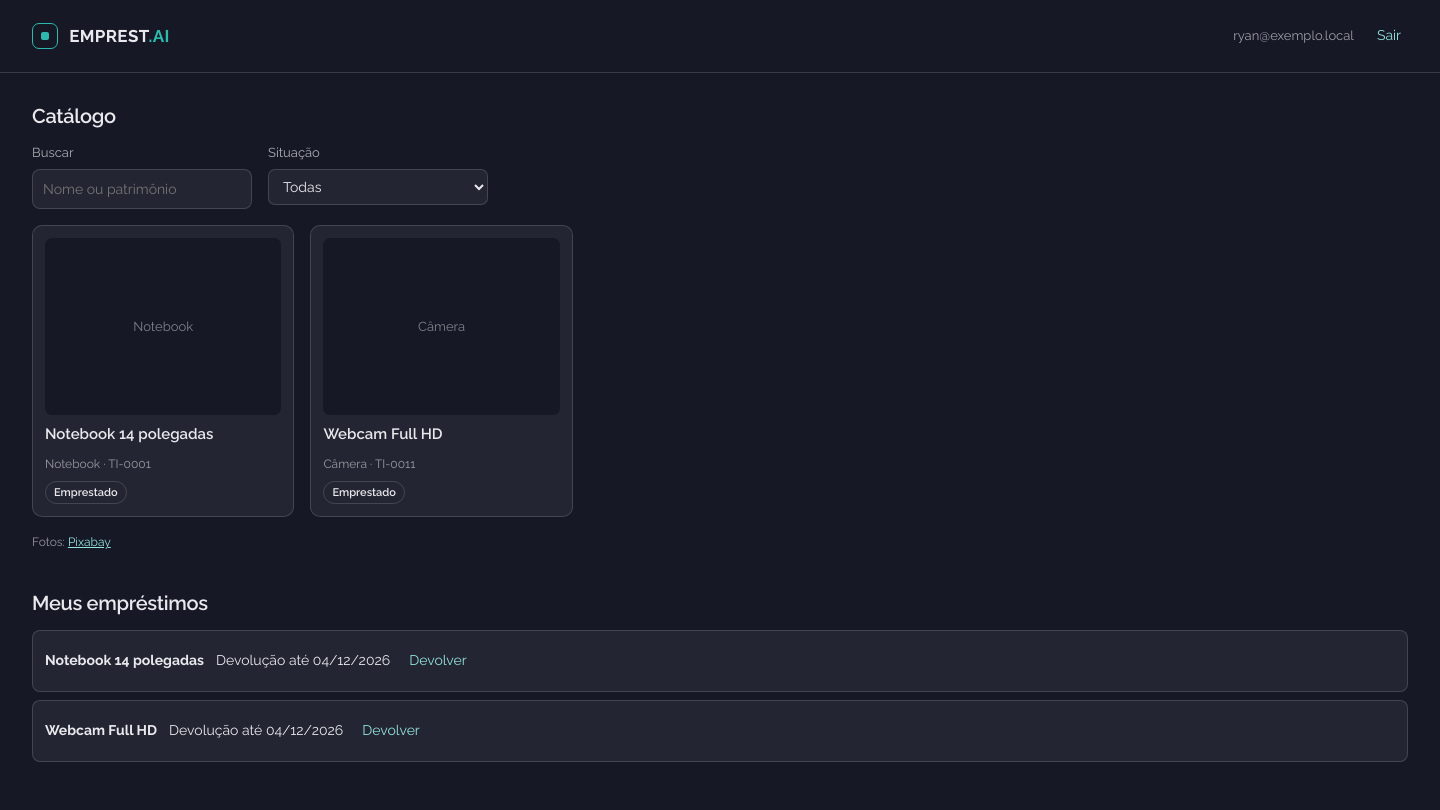
Scenario: devolver (spec 003 do front) › CA-02: o clique envia POST /loans/{id}/return com o token, mostra "Devolução registrada." e recarrega as listas
Click the button with aria-label "Devolver Notebook 14 polegadas".
click(438, 661)  # box [402,641,474,681]
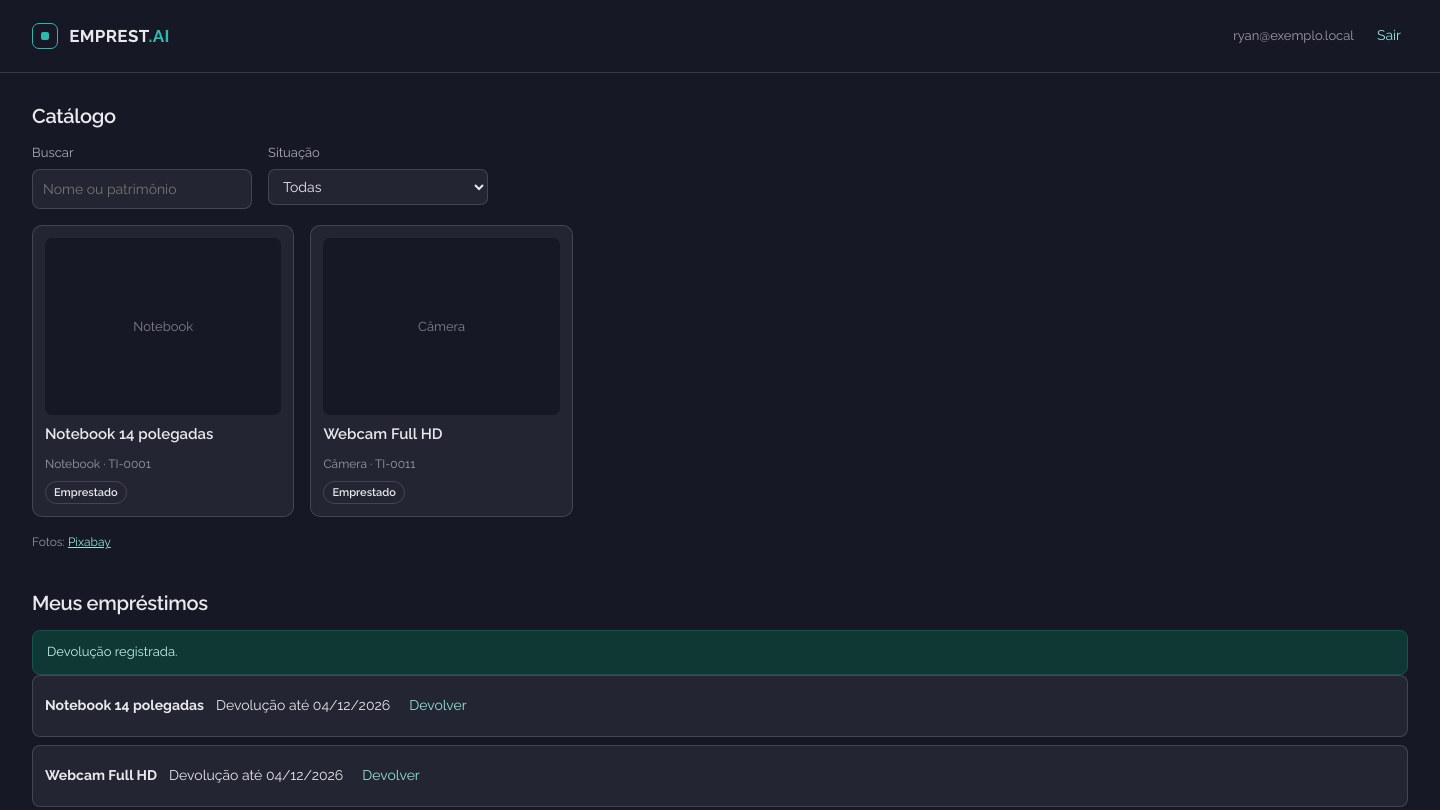
Check: the text "Devolução registrada." is shown, box [32,630,1408,675]
